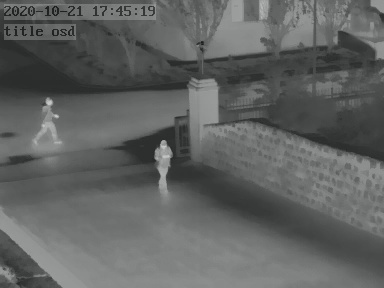person: (34, 94, 62, 142), (155, 138, 171, 188)
